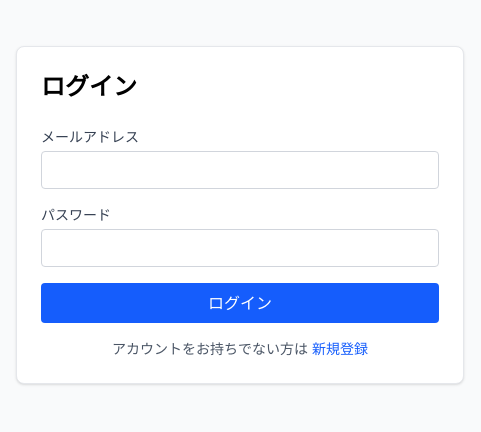
Test: LoginPage › 未入力でフォーム送信するとエラーを表示する
Step 1. Click the button "ログイン" → [240, 303], box [41,283,439,323]
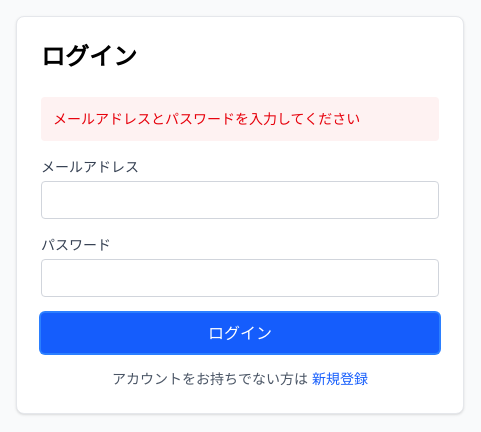
Expected: the message reads "メールアドレスとパスワードを入力してください", [53,110,360,127]
